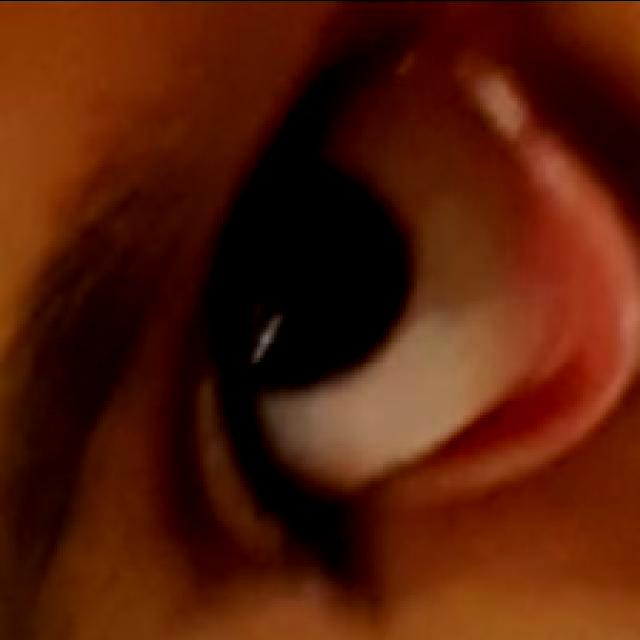conjunctiva_pallor: (390, 112, 634, 475)
